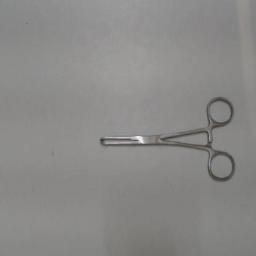Allis Tissue Forceps: (95, 94, 237, 190)
